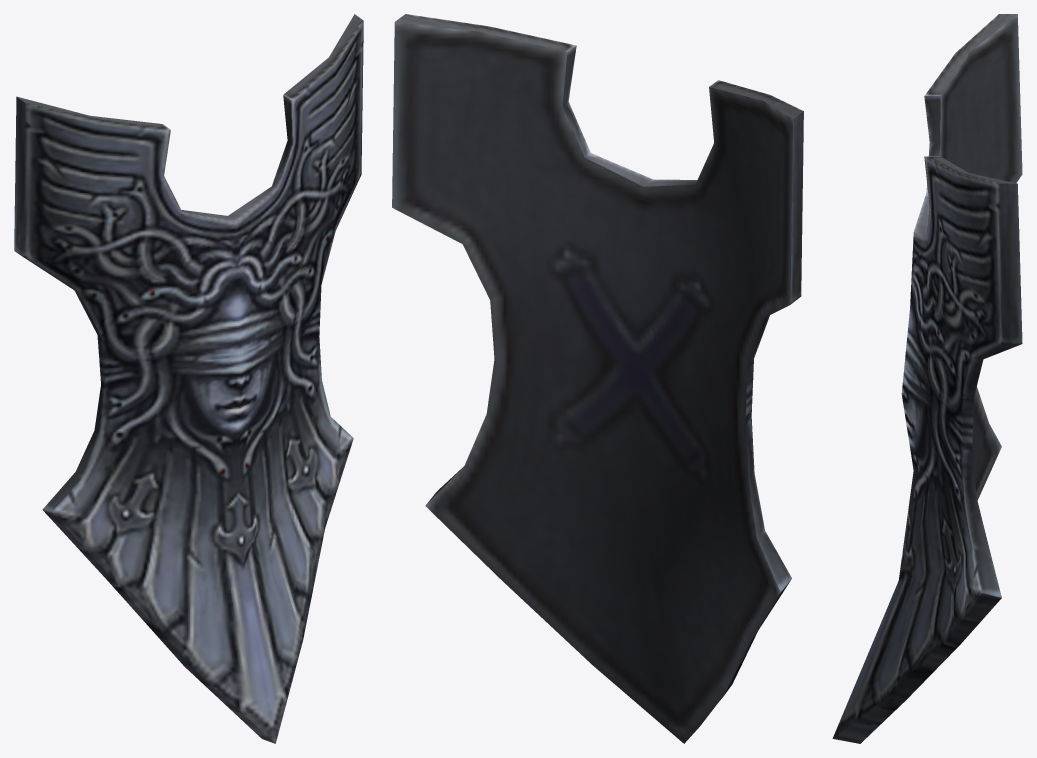
Rendered from Shield20.FBX.
3 renders of one model, left to right at view 1: azimuth 30°, elevation 25°; view 2: azimuth 150°, elevation 25°; view 3: azimuth 270°, elevation 25°, orthographic. The views are drawn at different scales.
Parts seen in each view (by area): view 1: Shield20; view 2: Shield20; view 3: Shield20.
Boxes of the visible parts, x1=… form: Shield20: x1=14, y1=14, x2=363, y2=743; Shield20: x1=392, y1=14, x2=803, y2=743; Shield20: x1=832, y1=14, x2=1022, y2=743.
Bounding box in the file's own units: 57.66 × 102 × 27.3.
